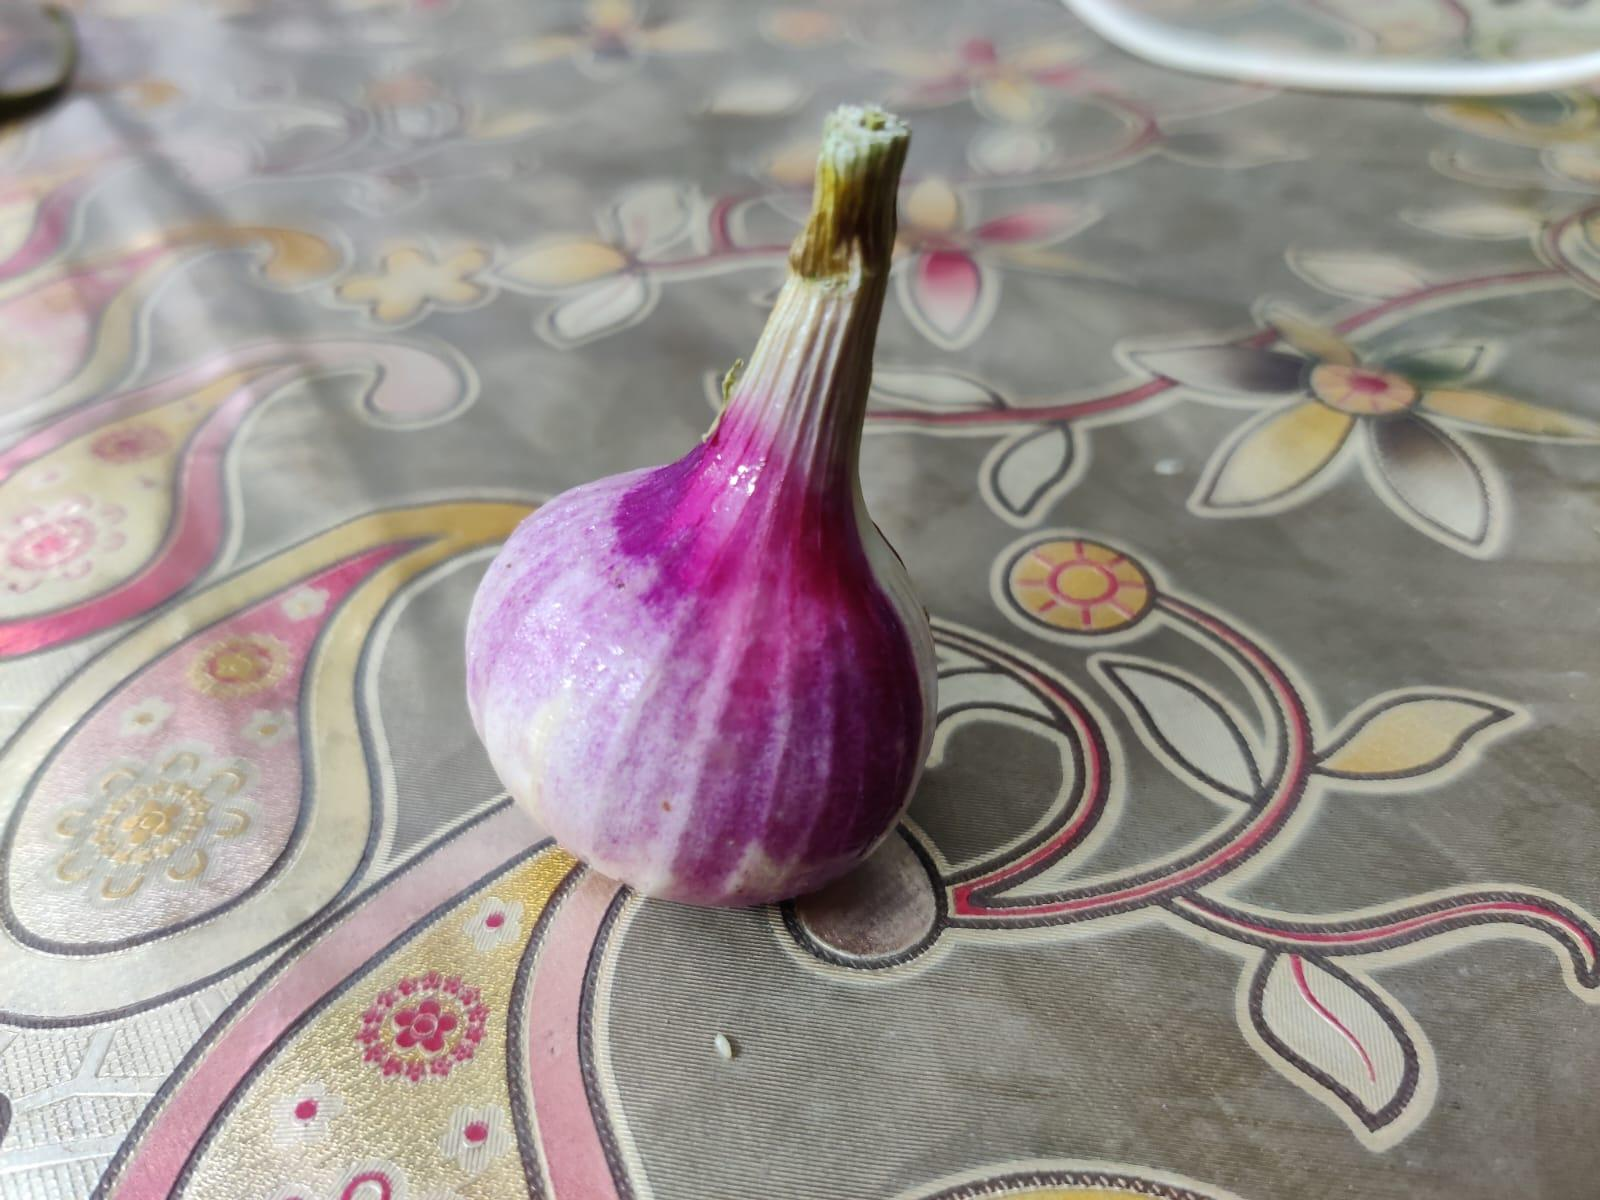non-mango: (466, 98, 954, 908)
